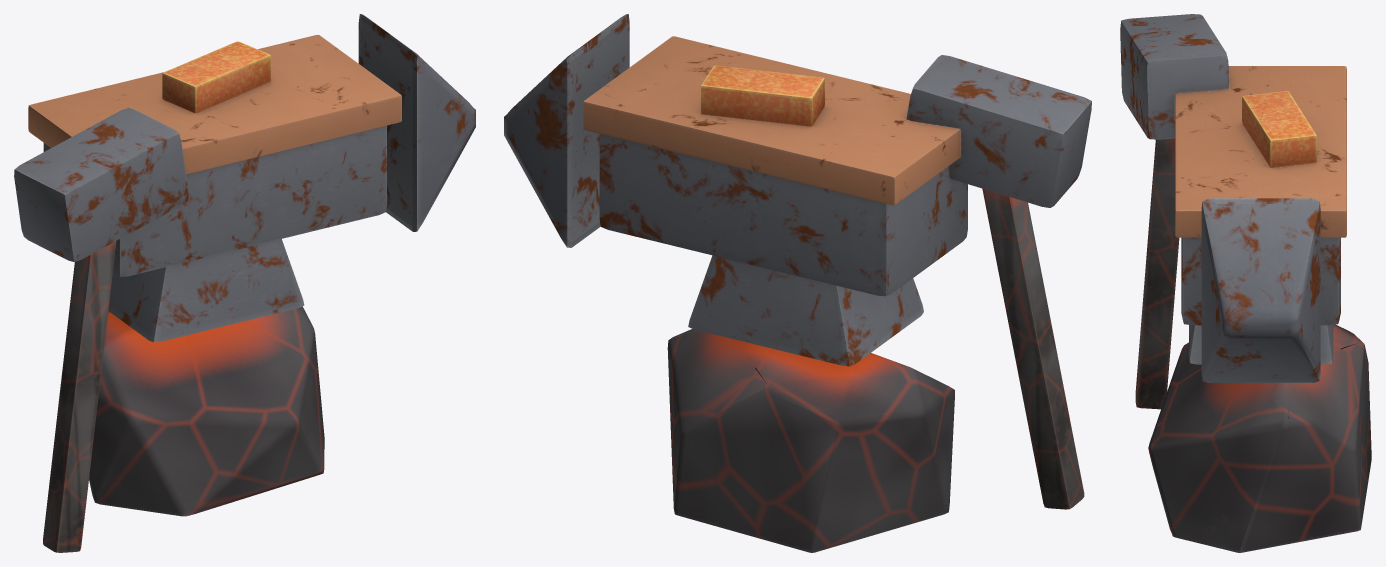
File: Volcan_Enclume.fbx
The picture shows the model from 3 angles, left to right: view 1: azimuth 30°, elevation 25°; view 2: azimuth 150°, elevation 25°; view 3: azimuth 270°, elevation 25°; orthographic projection. The views are drawn at different scales.
Parts seen in each view (by area): view 1: Volcan_Enclume; view 2: Volcan_Enclume; view 3: Volcan_Enclume.
Part boxes in pixels (<box>): Volcan_Enclume: <box>14,14,475,552</box>; Volcan_Enclume: <box>504,14,1091,552</box>; Volcan_Enclume: <box>1120,14,1371,552</box>.
Bounding box in the file's own units: 914 × 720 × 410.
1 material, 1 textured.
